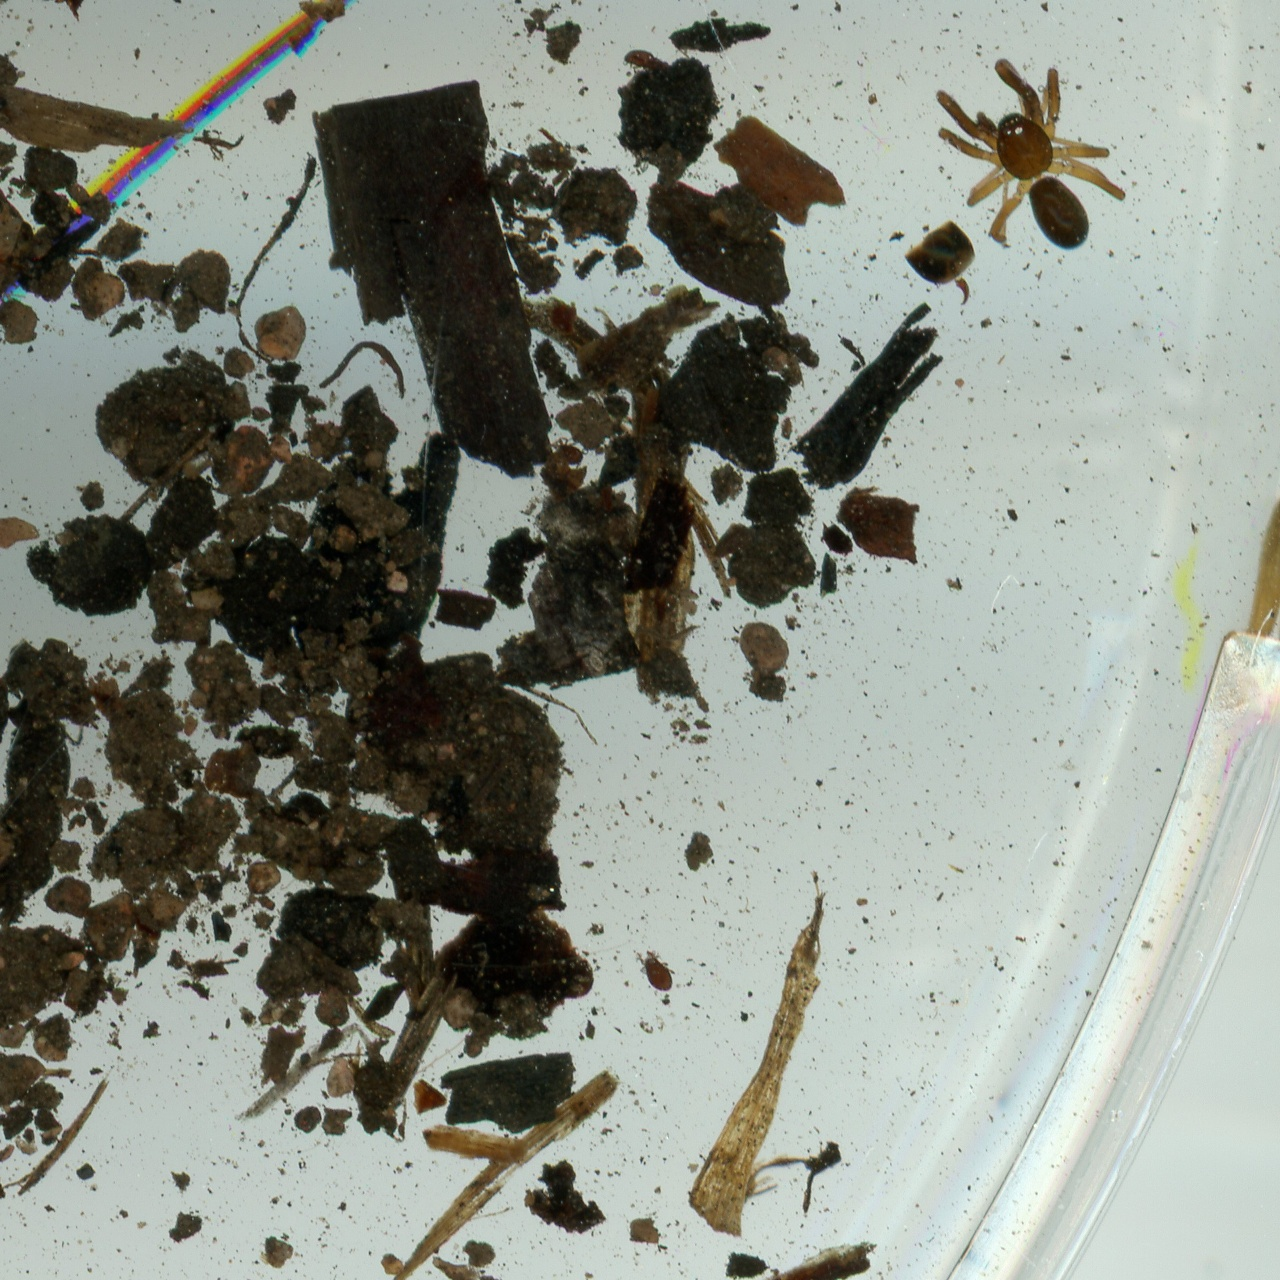arthropod: (927, 53, 1130, 253), (0, 198, 107, 353), (632, 947, 679, 994), (619, 45, 674, 82), (550, 431, 592, 470)
